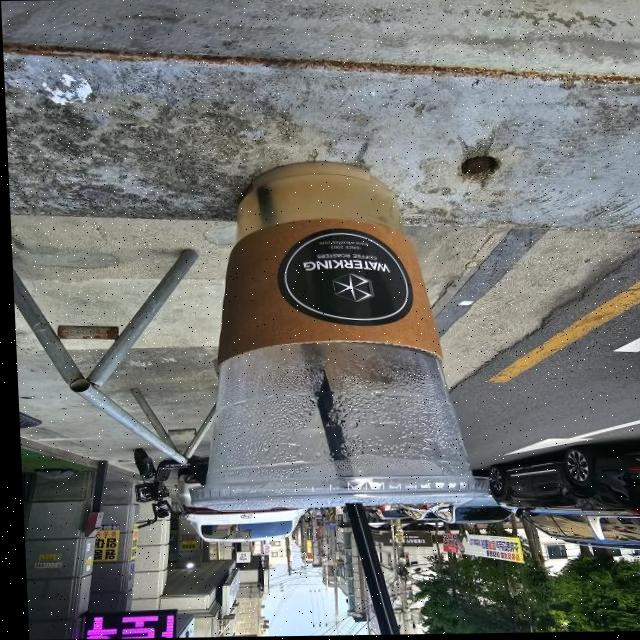cup: (160, 153, 498, 517)
